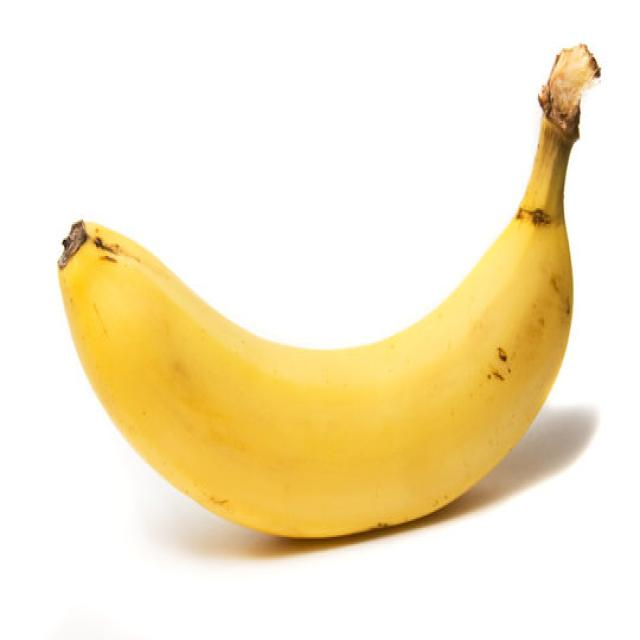non_orange: (54, 42, 592, 545)
